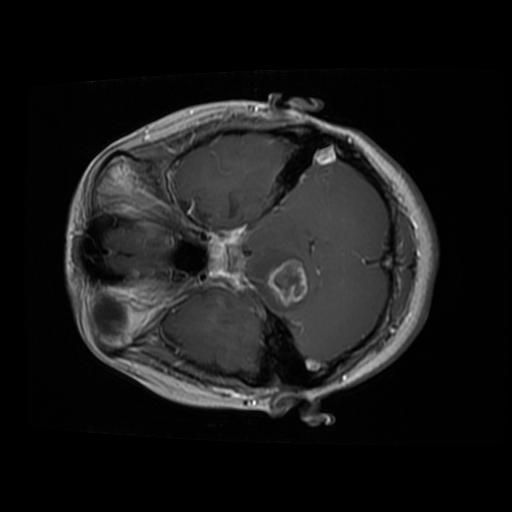glioma: (267, 257, 311, 308)
